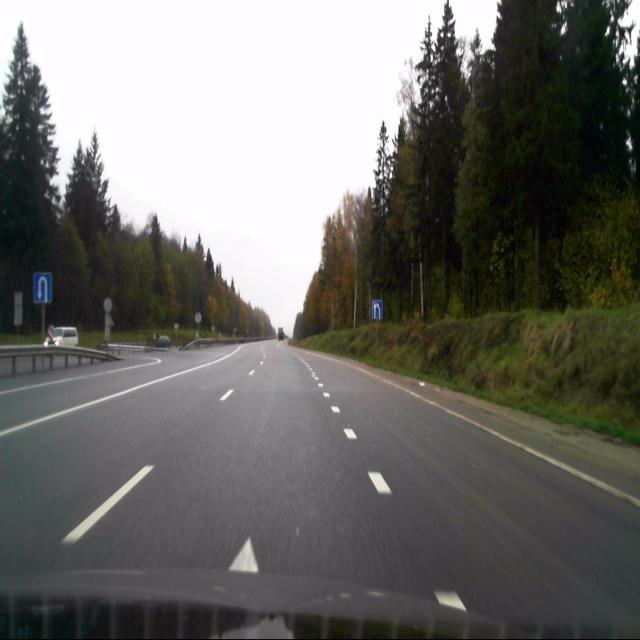road sign: (35, 270, 52, 302), (372, 300, 382, 319)
